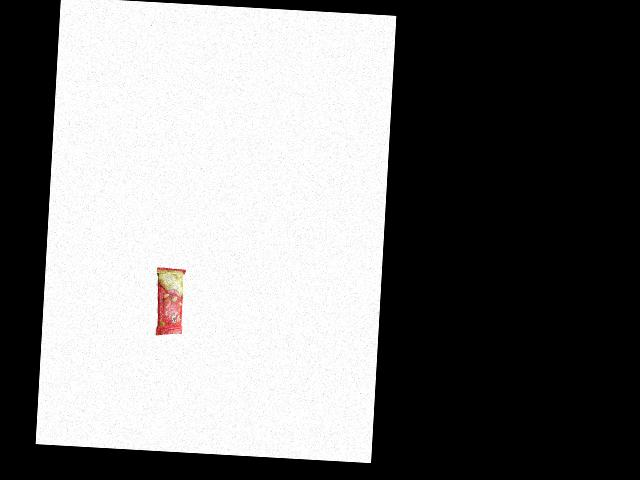chocolate: (148, 266, 187, 341)
